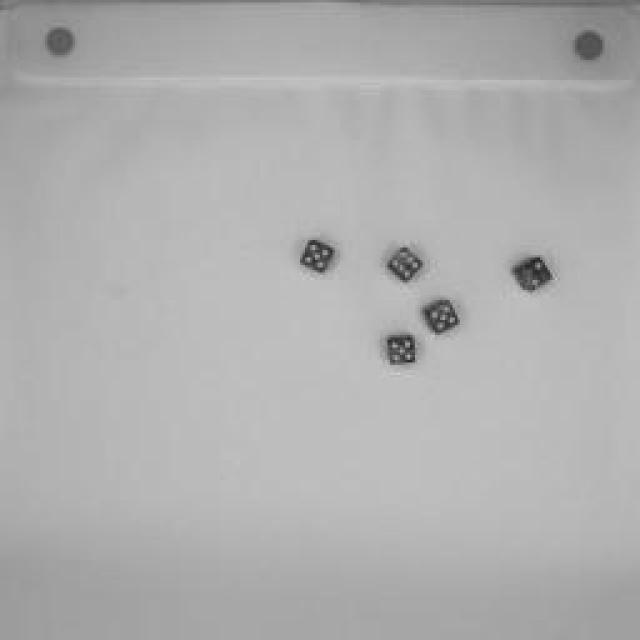dice_2: (509, 252, 556, 298)
dice_5: (295, 235, 340, 280), (418, 298, 464, 338), (384, 332, 418, 370)
dice_6: (383, 245, 425, 285)
